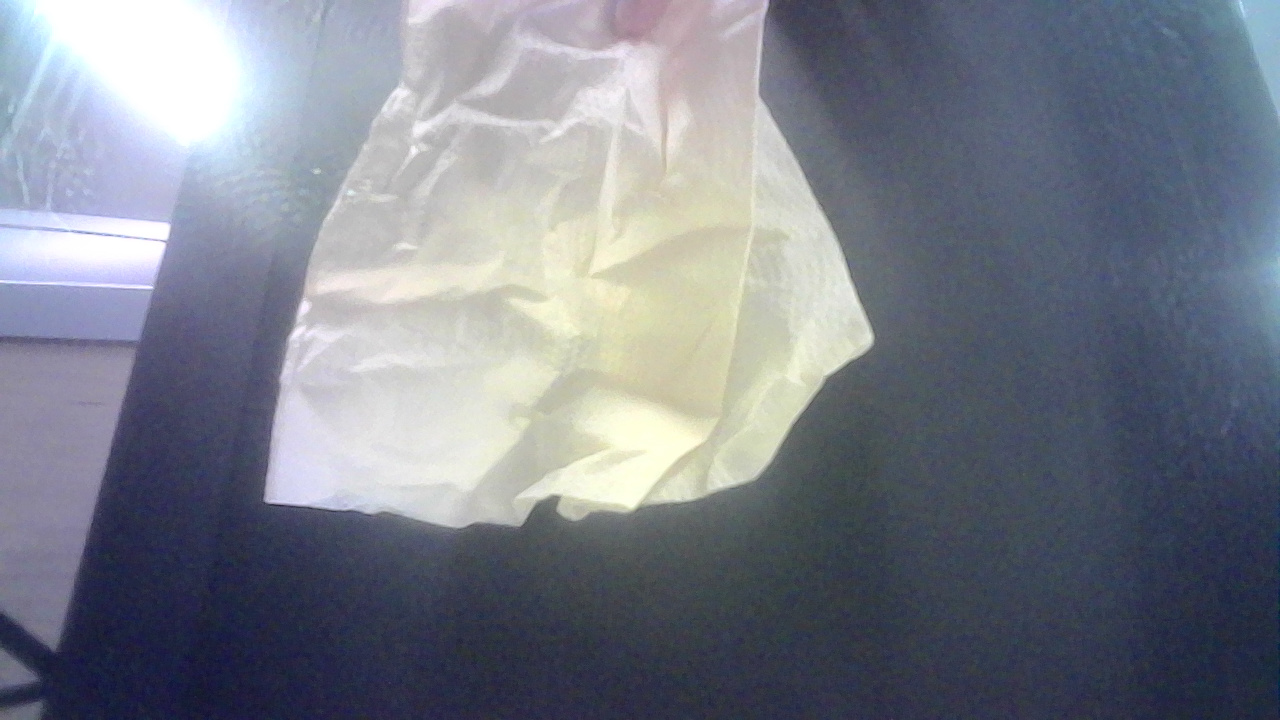Paper_Recycling: (242, 4, 877, 529)
